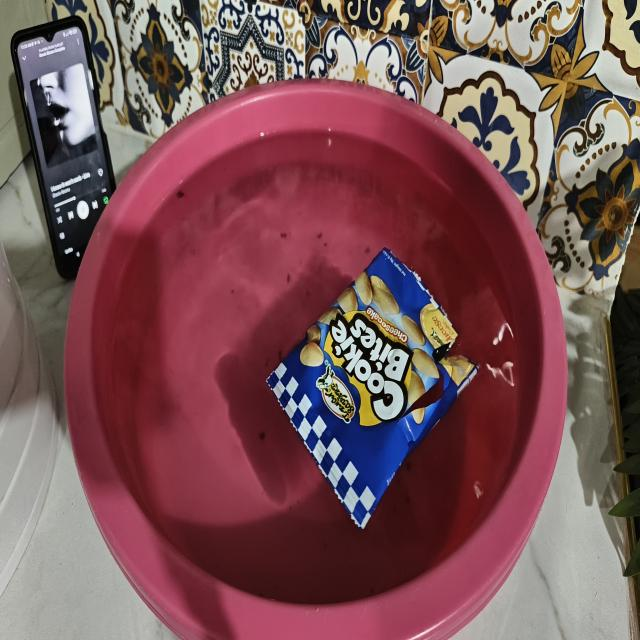Plastic Wrapper: (245, 208, 491, 548)
